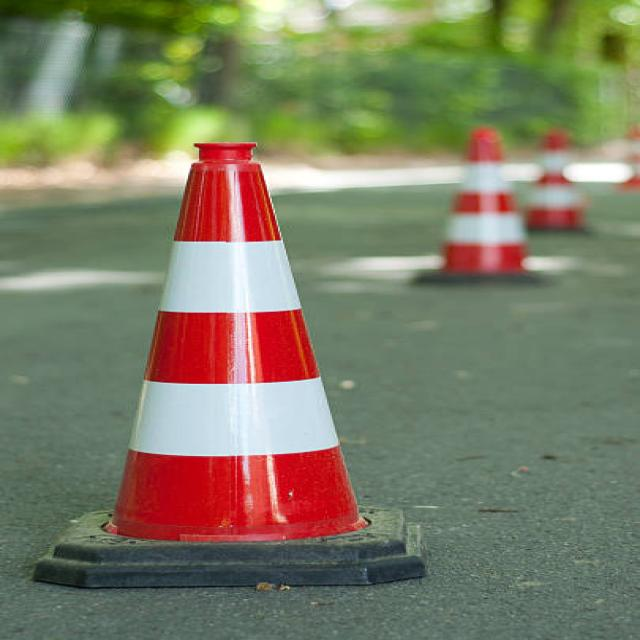Traffic Cone: (13, 107, 466, 620)
